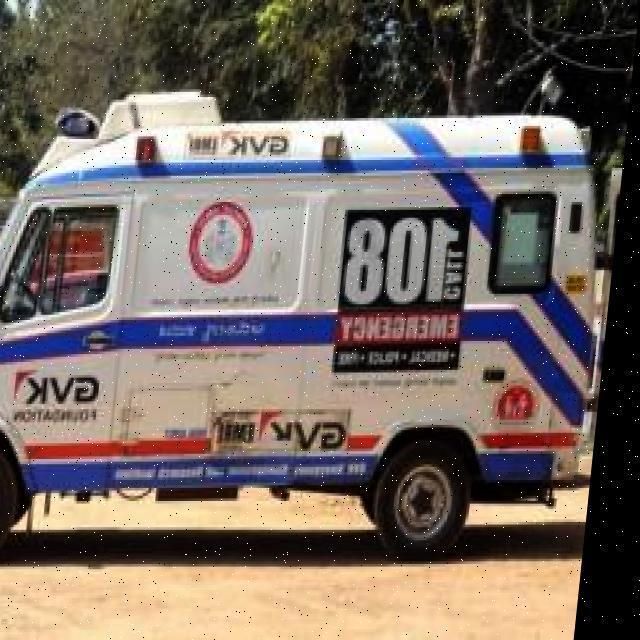Ambulance: (0, 84, 630, 569), (0, 427, 602, 637)
